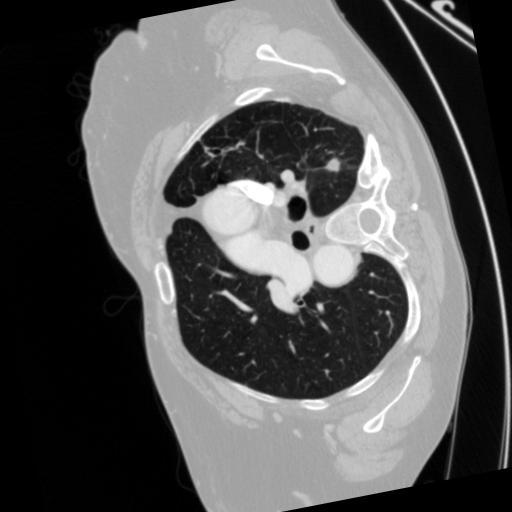nodule: (323, 153, 345, 175)
